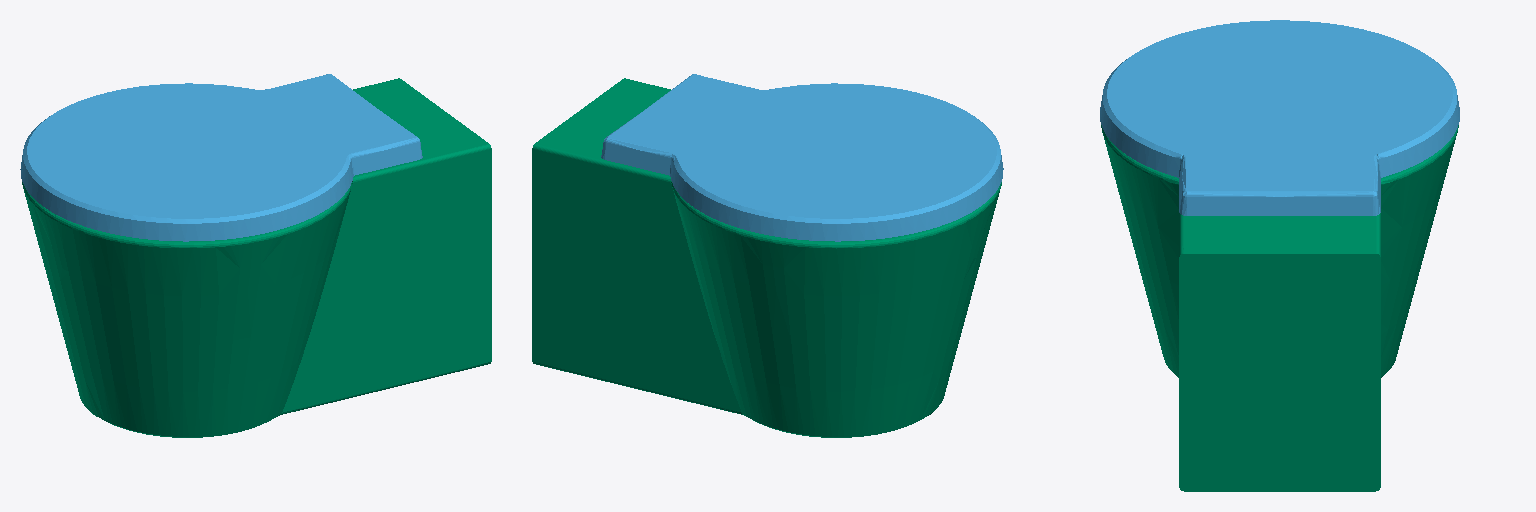
The robot description file, URDF, robot "partnet_746cbf9abe722de1f2c0658ad22a9a9b-0":
<robot name="partnet_746cbf9abe722de1f2c0658ad22a9a9b-0">
	<link name="base" />
	<link name="link_0">
		<collision>
			<origin xyz="0 -0.30661122295380355 0.5556749436631799" />
			<geometry>
				<mesh filename="new_objs/102652_link_0_0.obj" />
			</geometry>
		</collision>
	<visual name="lid-part[&quot;id]">
			<origin xyz="0 -0.30661122295380355 0.5556749436631799" />
			<geometry>
				<mesh filename="textured_objs/original-2.obj" />
			</geometry>
		</visual>
		</link>
	<joint name="joint_0" type="revolute">
		<origin xyz="0 0.30661122295380355 -0.5556749436631799" />
		<axis xyz="-1 0 0" />
		<child link="link_0" />
		<parent link="link_1" />
		<limit lower="-0.0" upper="1.6929693744344996" />
	</joint>
	<link name="link_1">
		<collision>
			<origin xyz="0 0 0" />
			<geometry>
				<mesh filename="new_objs/102652_link_1_20.obj" />
			</geometry>
		</collision>
	<collision>
			<origin xyz="0 0 0" />
			<geometry>
				<mesh filename="new_objs/102652_link_1_10.obj" />
			</geometry>
		</collision>
	<collision>
			<origin xyz="0 0 0" />
			<geometry>
				<mesh filename="new_objs/102652_link_1_2.obj" />
			</geometry>
		</collision>
	<collision>
			<origin xyz="0 0 0" />
			<geometry>
				<mesh filename="new_objs/102652_link_1_19.obj" />
			</geometry>
		</collision>
	<collision>
			<origin xyz="0 0 0" />
			<geometry>
				<mesh filename="new_objs/102652_link_1_6.obj" />
			</geometry>
		</collision>
	<collision>
			<origin xyz="0 0 0" />
			<geometry>
				<mesh filename="new_objs/102652_link_1_17.obj" />
			</geometry>
		</collision>
	<collision>
			<origin xyz="0 0 0" />
			<geometry>
				<mesh filename="new_objs/102652_link_1_16.obj" />
			</geometry>
		</collision>
	<collision>
			<origin xyz="0 0 0" />
			<geometry>
				<mesh filename="new_objs/102652_link_1_5.obj" />
			</geometry>
		</collision>
	<collision>
			<origin xyz="0 0 0" />
			<geometry>
				<mesh filename="new_objs/102652_link_1_1.obj" />
			</geometry>
		</collision>
	<collision>
			<origin xyz="0 0 0" />
			<geometry>
				<mesh filename="new_objs/102652_link_1_7.obj" />
			</geometry>
		</collision>
	<collision>
			<origin xyz="0 0 0" />
			<geometry>
				<mesh filename="new_objs/102652_link_1_0.obj" />
			</geometry>
		</collision>
	<collision>
			<origin xyz="0 0 0" />
			<geometry>
				<mesh filename="new_objs/102652_link_1_22.obj" />
			</geometry>
		</collision>
	<collision>
			<origin xyz="0 0 0" />
			<geometry>
				<mesh filename="new_objs/102652_link_1_11.obj" />
			</geometry>
		</collision>
	<collision>
			<origin xyz="0 0 0" />
			<geometry>
				<mesh filename="new_objs/102652_link_1_3.obj" />
			</geometry>
		</collision>
	<collision>
			<origin xyz="0 0 0" />
			<geometry>
				<mesh filename="new_objs/102652_link_1_14.obj" />
			</geometry>
		</collision>
	<collision>
			<origin xyz="0 0 0" />
			<geometry>
				<mesh filename="new_objs/102652_link_1_9.obj" />
			</geometry>
		</collision>
	<collision>
			<origin xyz="0 0 0" />
			<geometry>
				<mesh filename="new_objs/102652_link_1_18.obj" />
			</geometry>
		</collision>
	<collision>
			<origin xyz="0 0 0" />
			<geometry>
				<mesh filename="new_objs/102652_link_1_12.obj" />
			</geometry>
		</collision>
	<collision>
			<origin xyz="0 0 0" />
			<geometry>
				<mesh filename="new_objs/102652_link_1_15.obj" />
			</geometry>
		</collision>
	<collision>
			<origin xyz="0 0 0" />
			<geometry>
				<mesh filename="new_objs/102652_link_1_4.obj" />
			</geometry>
		</collision>
	<collision>
			<origin xyz="0 0 0" />
			<geometry>
				<mesh filename="new_objs/102652_link_1_8.obj" />
			</geometry>
		</collision>
	<collision>
			<origin xyz="0 0 0" />
			<geometry>
				<mesh filename="new_objs/102652_link_1_21.obj" />
			</geometry>
		</collision>
	<collision>
			<origin xyz="0 0 0" />
			<geometry>
				<mesh filename="new_objs/102652_link_1_13.obj" />
			</geometry>
		</collision>
	<visual name="base_body-part[&quot;id]">
			<origin xyz="0 0 0" />
			<geometry>
				<mesh filename="textured_objs/original-1.obj" />
			</geometry>
		</visual>
		</link>
	<joint name="joint_1" type="fixed">
		<origin rpy="1.570796326794897 0 -1.570796326794897" xyz="0 0 0" />
		<child link="link_1" />
		<parent link="base" />
	</joint>
</robot>

--- Facts derived from the render (not from the file) ---
3 views of the same robot in one strip: view 1: azimuth 30°, elevation 25°; view 2: azimuth 150°, elevation 25°; view 3: azimuth 270°, elevation 25° (orthographic).
Robot: partnet_746cbf9abe722de1f2c0658ad22a9a9b-0 — 3 links, 2 joints (1 revolute, 1 fixed); root link base; default pose: every joint at zero.
Visible links, largest first — view 1: link_1, link_0; view 2: link_1, link_0; view 3: link_1, link_0.
Boxes of the visible links, bbox=[...] form: link_1: bbox=[22, 78, 491, 437]; link_0: bbox=[20, 74, 422, 241]; link_1: bbox=[532, 78, 1001, 437]; link_0: bbox=[601, 74, 1003, 241]; link_1: bbox=[1101, 125, 1458, 491]; link_0: bbox=[1100, 20, 1459, 215].
Bounding box of the posed robot: 1.55 × 1.11 × 0.8937 m (x, y, z).
2 mesh visuals loaded from 2 distinct referenced files (2 OBJ).
